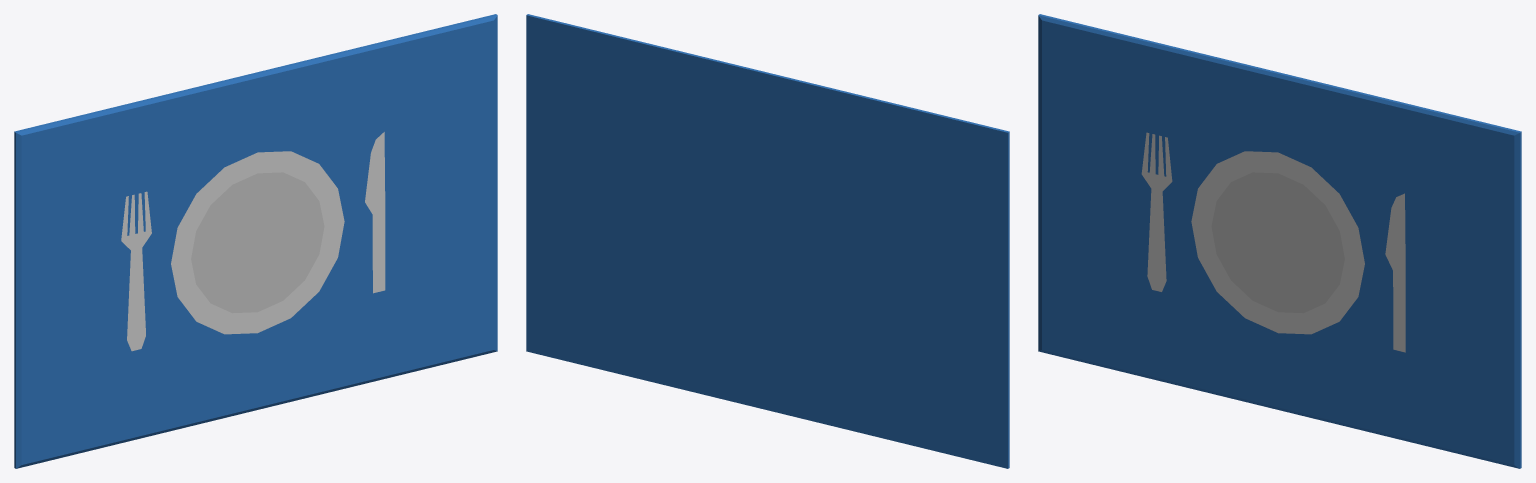
Rendered from Int_KitchenDecoration02_2.fbx.
3 renders of one model, left to right at view 1: azimuth 30°, elevation 25°; view 2: azimuth 150°, elevation 25°; view 3: azimuth 330°, elevation 25°, orthographic.
Parts seen in each view (by area): view 1: Int_KitchenDecoration02_2; view 2: Int_KitchenDecoration02_2; view 3: Int_KitchenDecoration02_2.
Boxes of the visible parts, bbox=[...] form: Int_KitchenDecoration02_2: bbox=[14, 14, 497, 468]; Int_KitchenDecoration02_2: bbox=[526, 14, 1009, 468]; Int_KitchenDecoration02_2: bbox=[1038, 14, 1521, 468].
Size of what is drawn, in the model's own units: 262 by 2.5 by 175.
